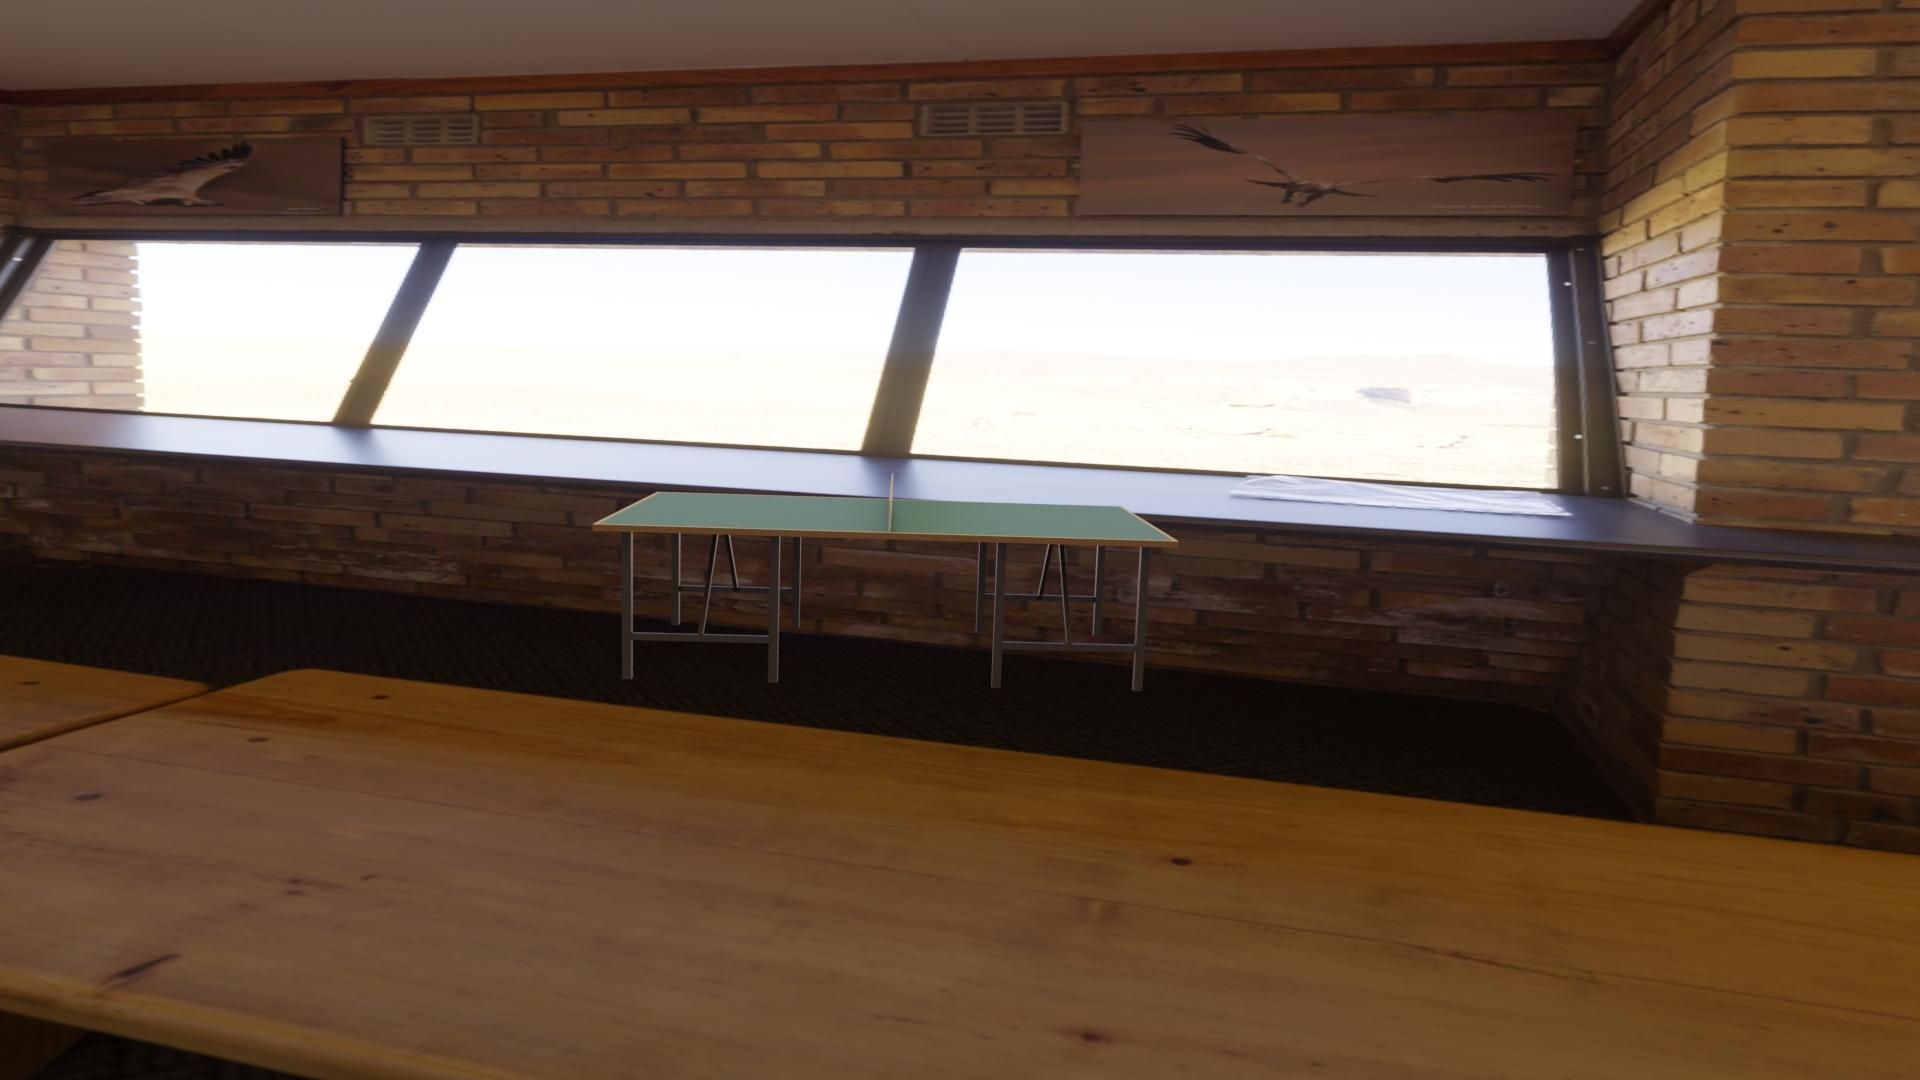table: (597, 492, 1174, 541)
